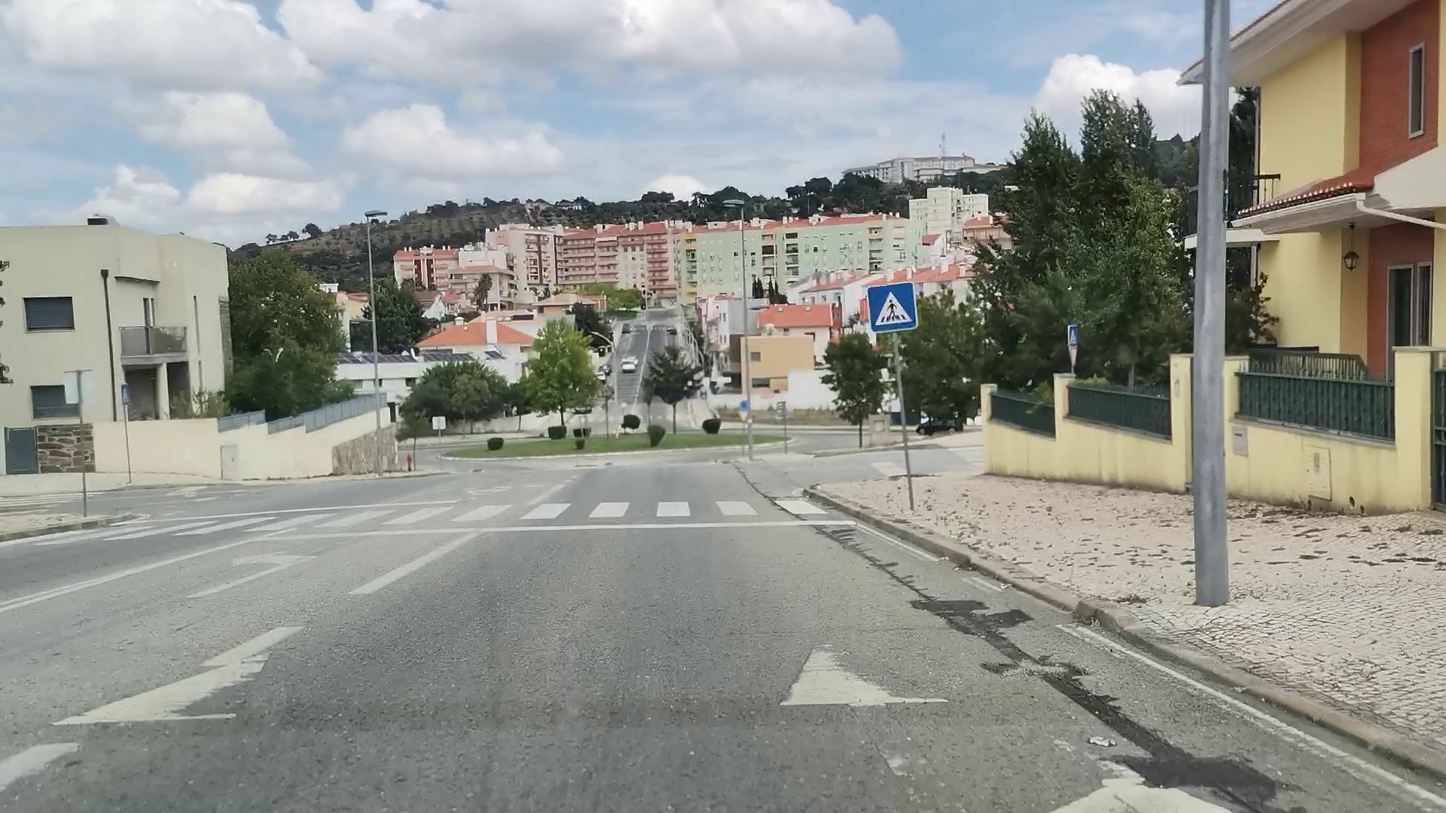Stairs: (21, 497, 832, 543)
